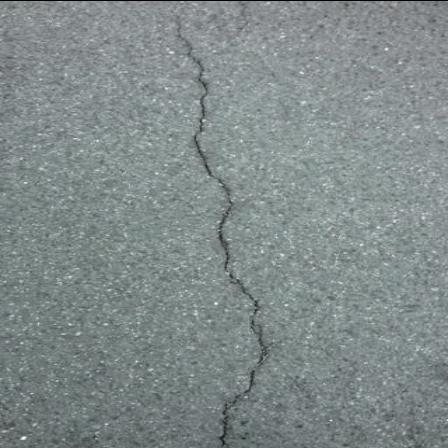crack: (169, 1, 283, 448)
